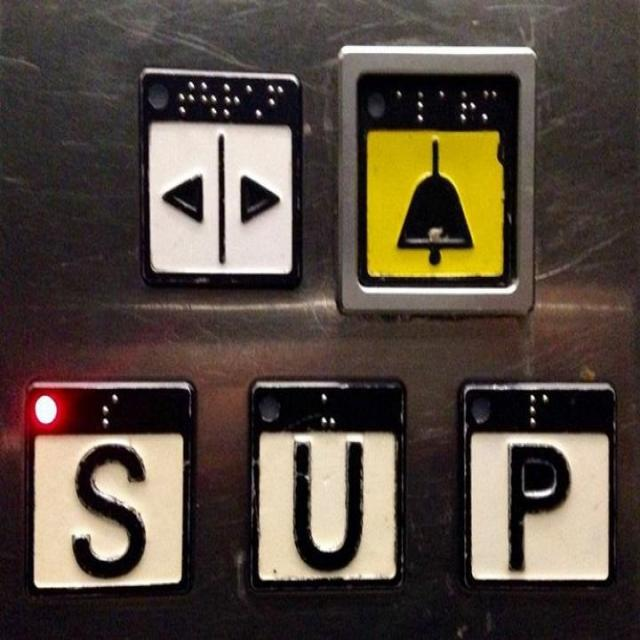P: (458, 379, 617, 587)
S: (24, 376, 194, 593)
U: (244, 375, 406, 596)
alarm: (333, 42, 534, 315)
open: (136, 62, 303, 290)
